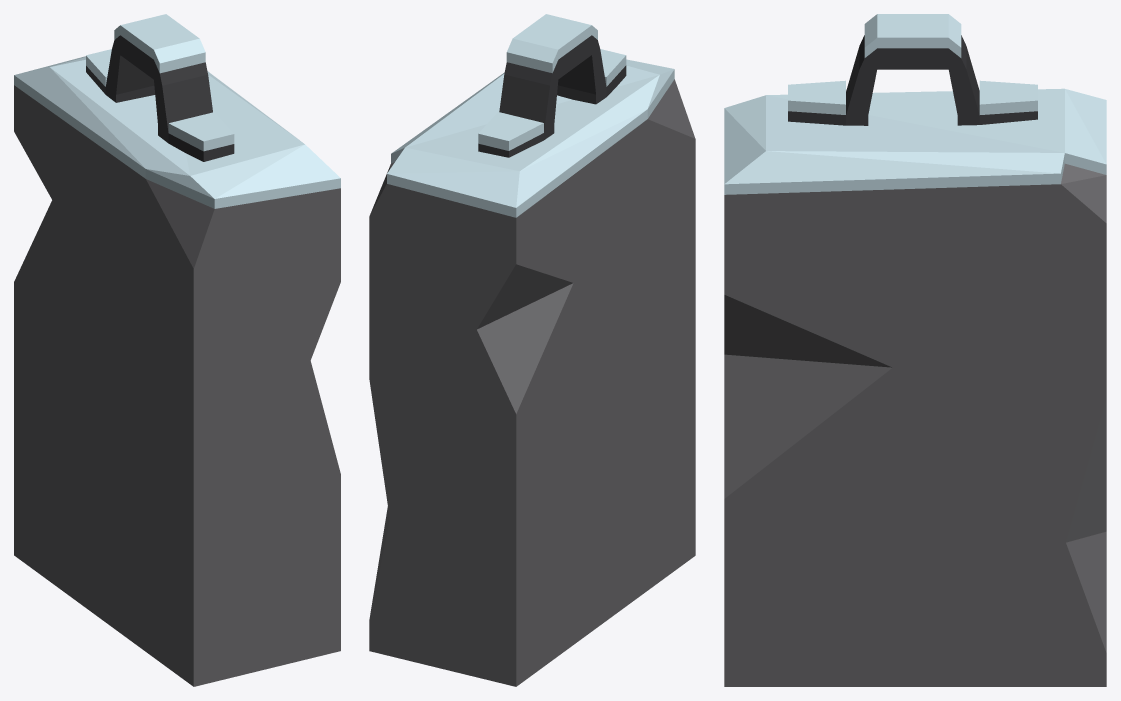
File: SM_Prp_WaterWheel_Support_01_Snow.gltf
3 views of the same model, side by side, from view 1: azimuth 30°, elevation 25°; view 2: azimuth 150°, elevation 25°; view 3: azimuth 270°, elevation 25° (orthographic). The views are drawn at different scales.
Parts seen in each view (by area): view 1: SM_Prp_WaterWheel_Support_01_Snow; view 2: SM_Prp_WaterWheel_Support_01_Snow; view 3: SM_Prp_WaterWheel_Support_01_Snow.
Part boxes in pixels (x1,y1,x2,y2): SM_Prp_WaterWheel_Support_01_Snow: (14, 14, 340, 686); SM_Prp_WaterWheel_Support_01_Snow: (369, 14, 695, 686); SM_Prp_WaterWheel_Support_01_Snow: (724, 14, 1106, 686).
Bounding box in the file's own units: 0.851 × 3.19 × 1.8.
Materials: 1 (1 with a texture image).
